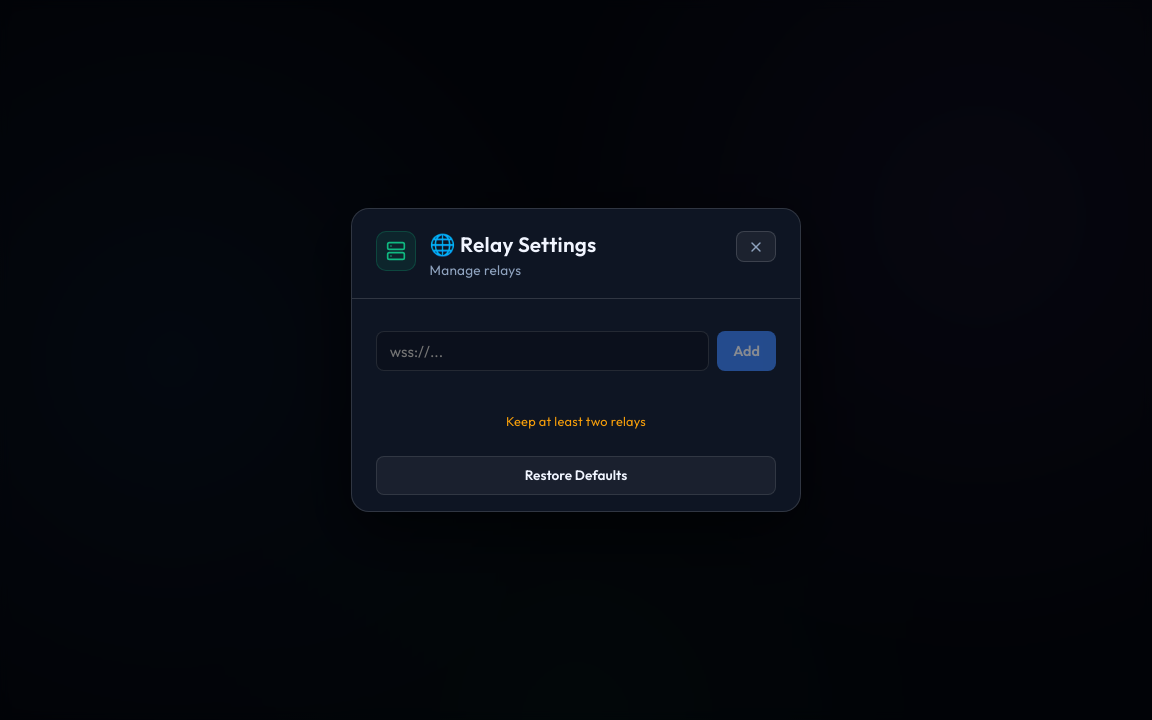
Test: RelaySettingsModal — adicionar relay › deve limpar o erro ao digitar novamente
This screenshot has width=1152, height=720.
In the field with placeholder "wss://...": (543, 351) [376, 331, 709, 371], type "invalid"
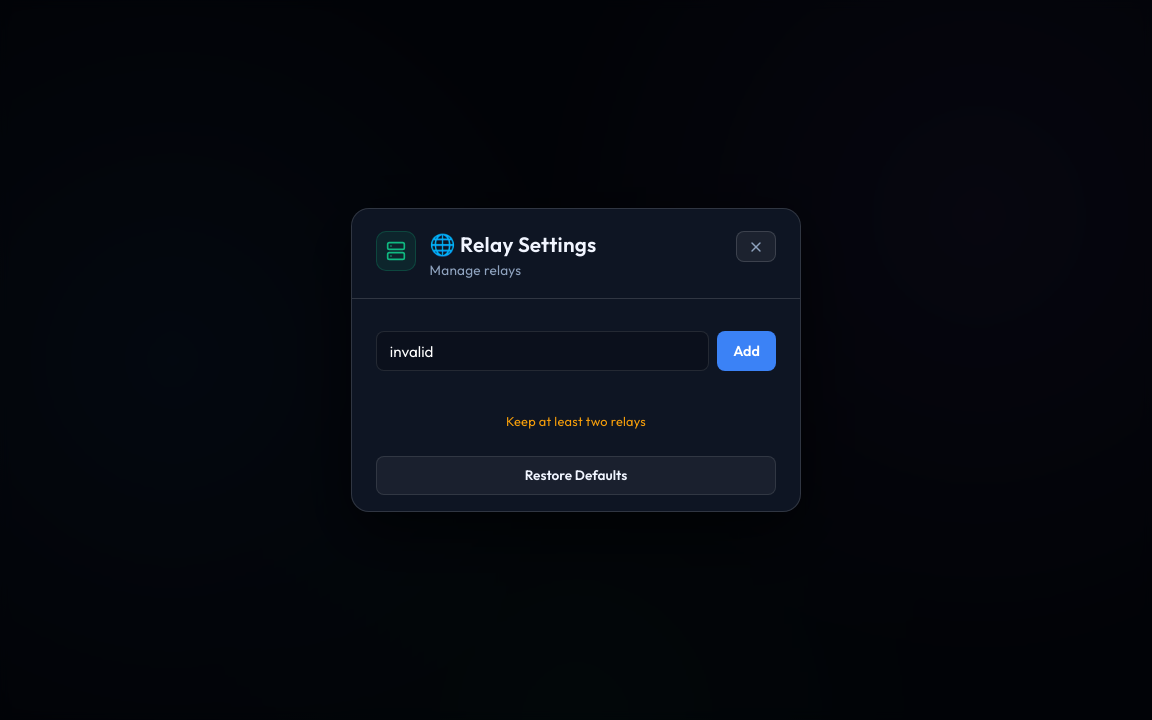
Click the button "Add": (747, 351) [717, 331, 776, 371]
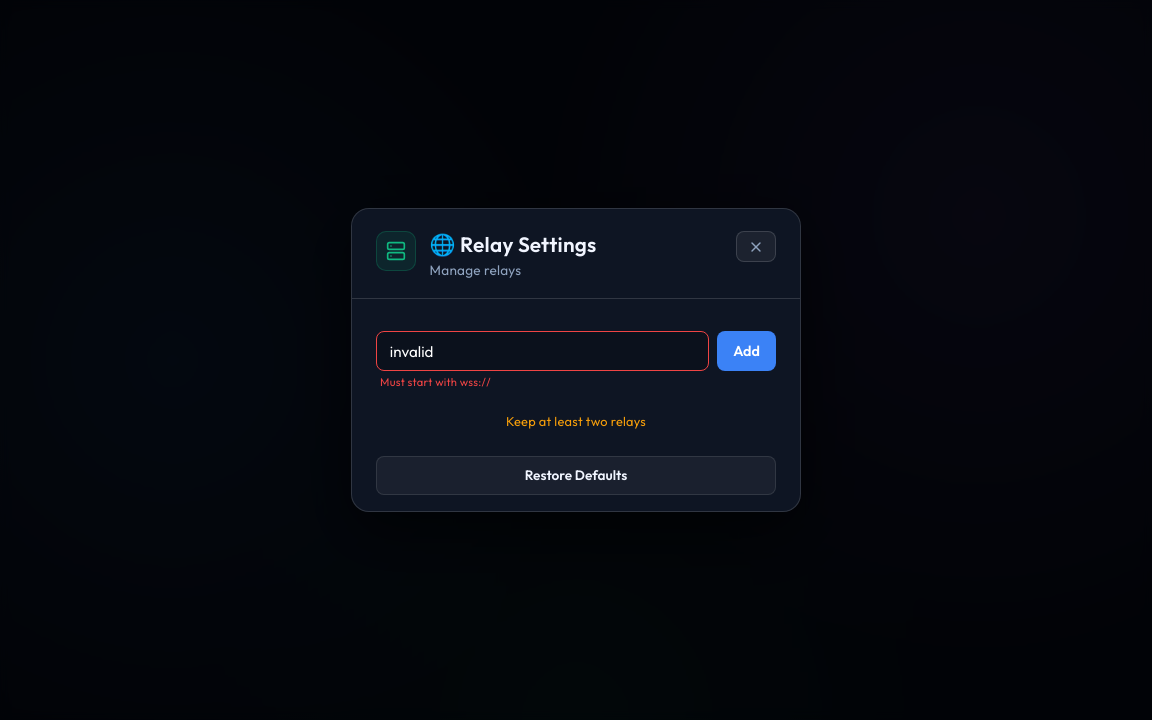
Now the text "Must start with wss://" is shown, box [380, 375, 491, 389]
Replace the text in the field with placeholder "wss://..." with "wss://fixed.com": (543, 351) [376, 331, 709, 371]
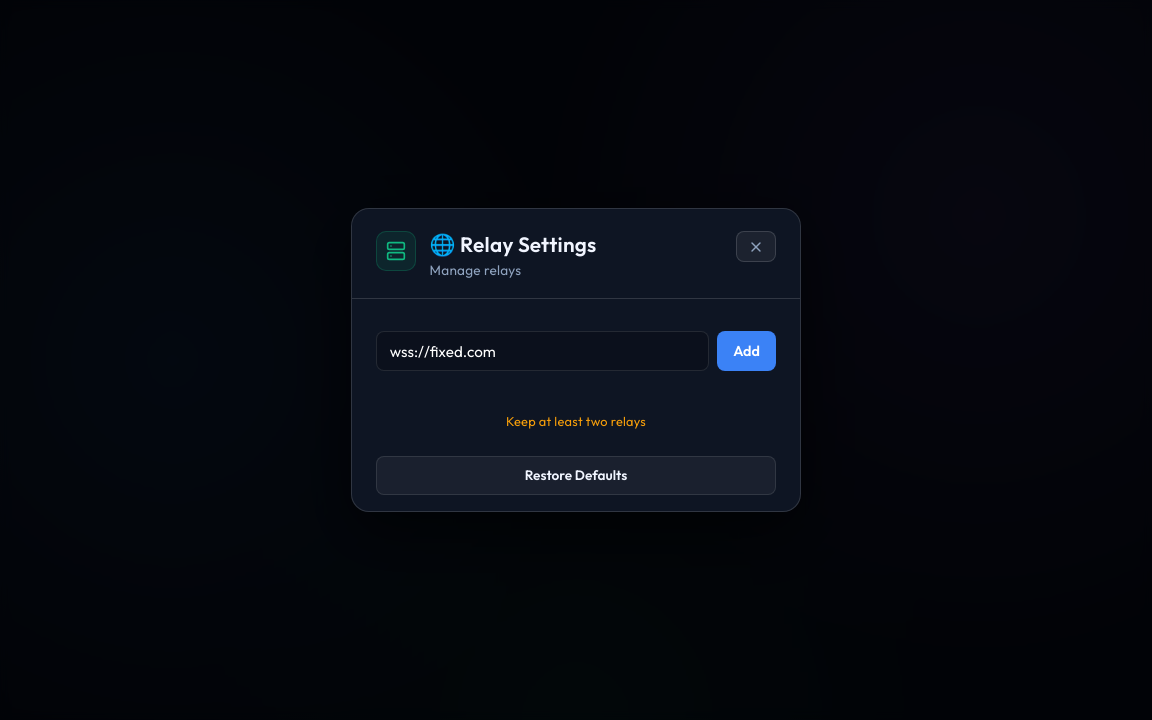
Now the text "Must start with wss://" is gone
